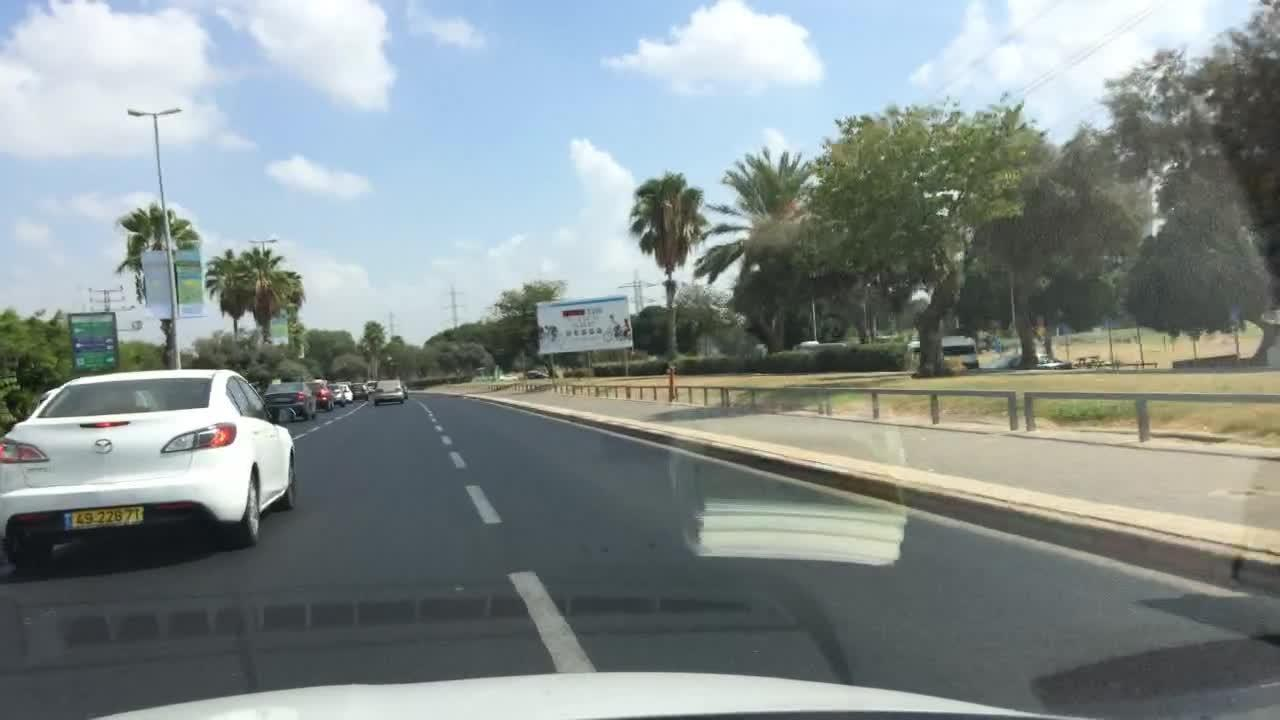Mazda: (85, 426, 121, 463)
